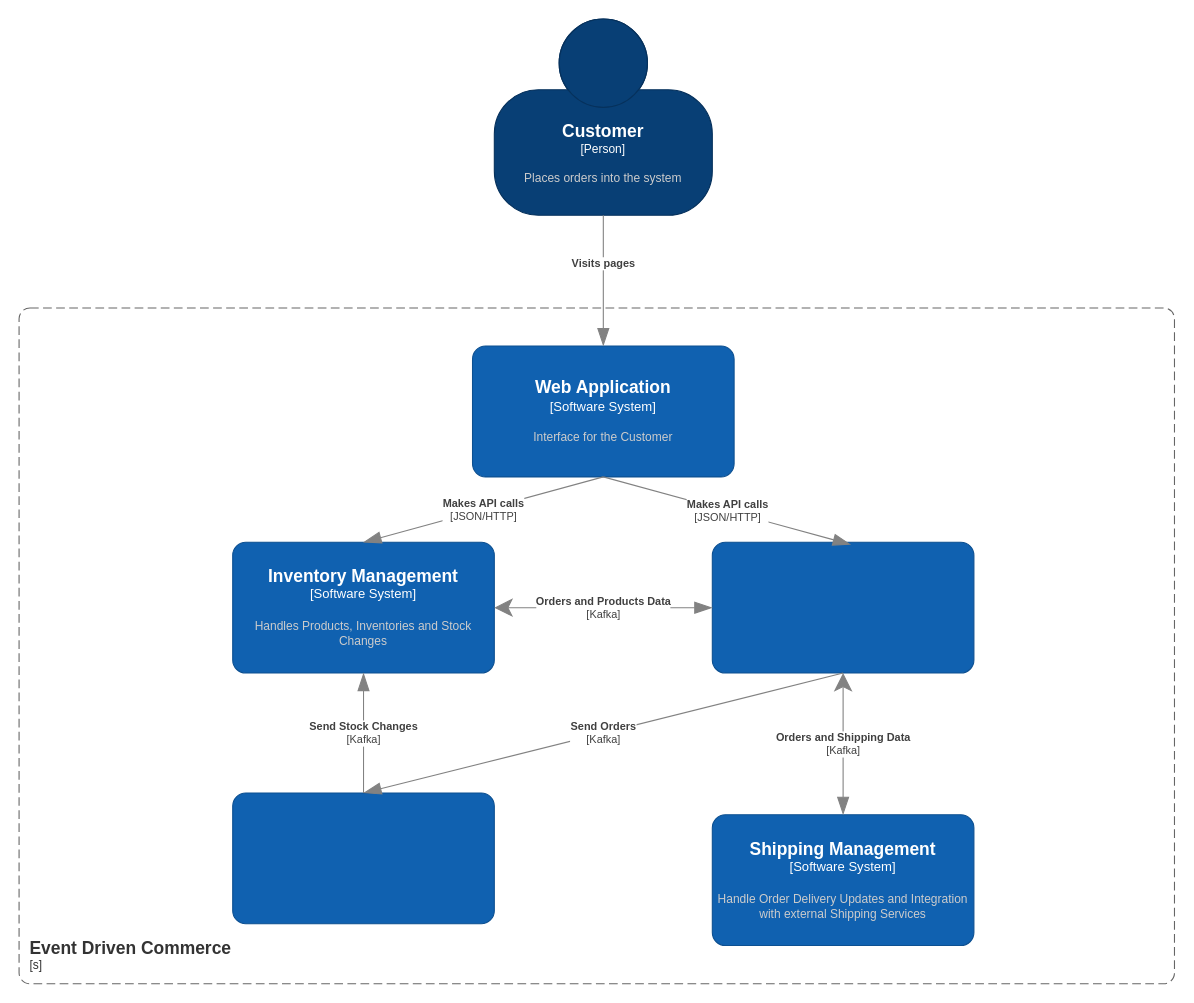
The diagram is 1194 pixels wide and 1003 high, and some of its shapes have lost their labels. Each missing label, with the centre of its shape:
Order Management [Software System] Handles Customer Orders: (x=842, y=607)
Stock Manageemnt [Software System] Transform new Orders in stock updates: (x=363, y=858)
